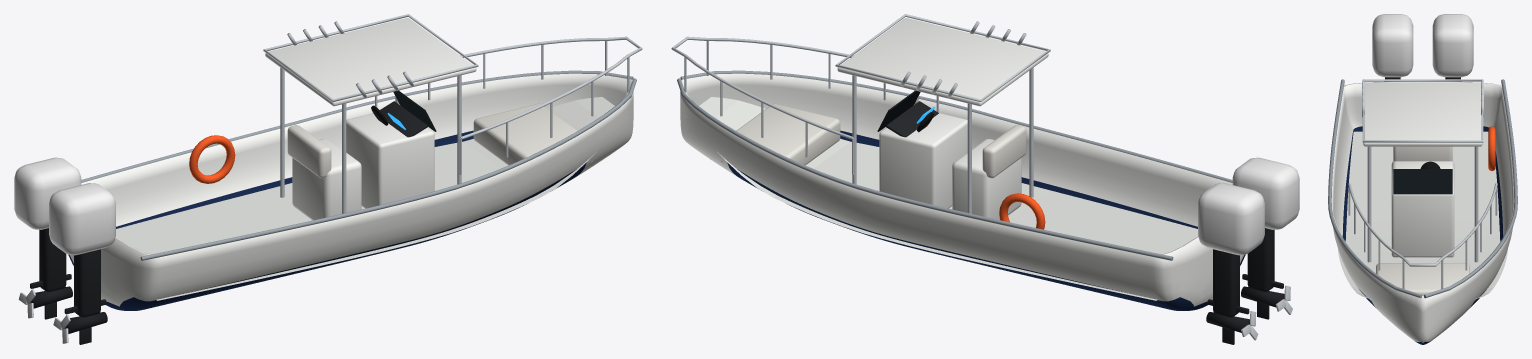
Rendered from center.glb.
The picture shows the model from 3 angles, left to right: view 1: azimuth 30°, elevation 25°; view 2: azimuth 150°, elevation 25°; view 3: azimuth 270°, elevation 25°; orthographic projection. The views are drawn at different scales.
Parts seen in each view (by area): view 1: hull, deck, ttop_top, console, ob2_cowl, bow_seat, leaning_post, ob1_cowl, gunwale.001, gunwale, ob2_mid, lp_cush (+10 smaller); view 2: hull, deck, ttop_top, console, ob1_cowl, bow_seat, leaning_post, ob2_cowl, gunwale, gunwale.001, ob1_mid, lp_cush (+10 smaller); view 3: hull, deck, ttop_top, console, ob1_cowl, ob2_cowl, bow_seat, console_glass, gunwale, gunwale.001, lp_cush, ttop_rail (+5 smaller).
Boxes of the visible parts, box(x1,y1,x2,y2) form: hull: box(68, 73, 633, 310); deck: box(116, 97, 614, 300); ttop_top: box(265, 18, 476, 106); console: box(346, 113, 434, 208); ob2_cowl: box(49, 183, 115, 255); bow_seat: box(473, 103, 592, 165); leaning_post: box(292, 139, 361, 220); ob1_cowl: box(14, 157, 81, 229); gunwale.001: box(140, 78, 636, 260); gunwale: box(81, 70, 633, 182); ob2_mid: box(74, 249, 100, 317); lp_cush: box(287, 125, 331, 178); hull: box(680, 73, 1245, 310); deck: box(699, 97, 1197, 300); ttop_top: box(837, 18, 1048, 106); console: box(879, 113, 967, 208); ob1_cowl: box(1198, 183, 1264, 255); bow_seat: box(721, 103, 840, 165); leaning_post: box(952, 139, 1021, 219); ob2_cowl: box(1232, 157, 1299, 229); gunwale: box(677, 78, 1173, 260); gunwale.001: box(680, 70, 1232, 182); ob1_mid: box(1213, 249, 1239, 317); lp_cush: box(982, 125, 1026, 178); hull: box(1331, 81, 1514, 344); deck: box(1338, 131, 1507, 299); ttop_top: box(1363, 82, 1482, 146); console: box(1391, 171, 1454, 257); ob1_cowl: box(1432, 14, 1473, 77); ob2_cowl: box(1372, 14, 1413, 77); bow_seat: box(1376, 263, 1469, 308); console_glass: box(1393, 169, 1452, 194); gunwale: box(1423, 79, 1517, 298); gunwale.001: box(1328, 79, 1422, 298); lp_cush: box(1393, 146, 1452, 161); ttop_rail: box(1362, 79, 1483, 142).
Bounding box in the file's own units: 9.53 × 3.2 × 3.03.
